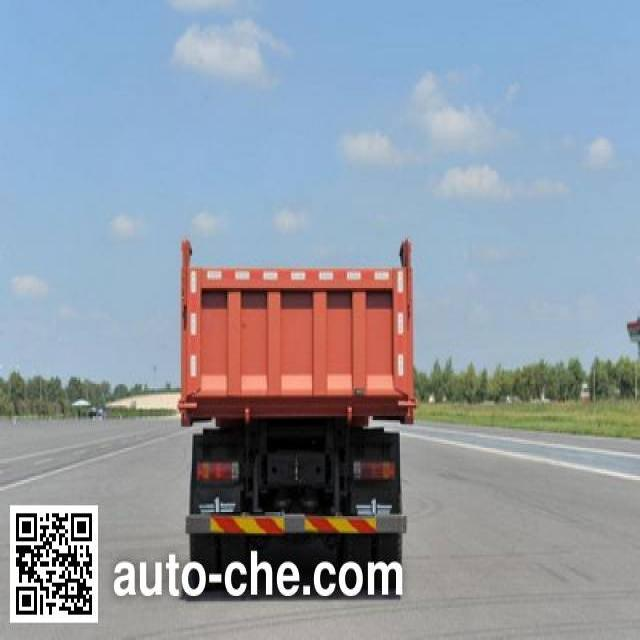normal_truck: (174, 232, 419, 600)
